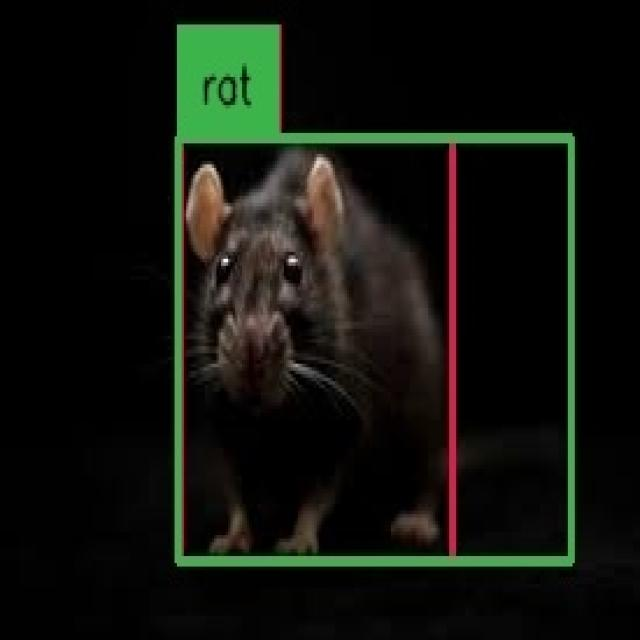rat: (177, 136, 572, 563), (180, 138, 453, 561)
